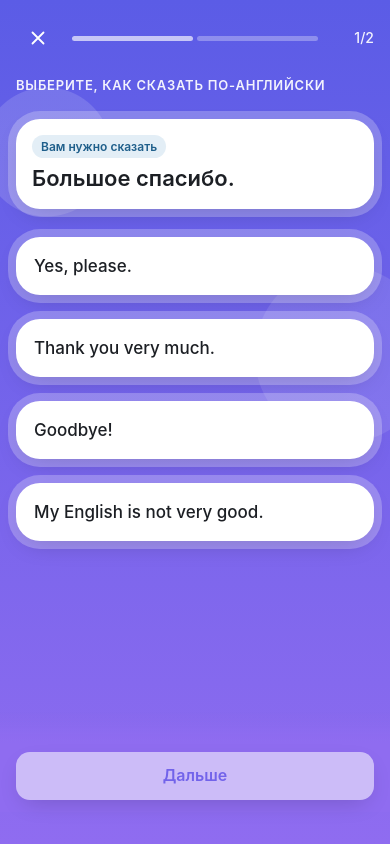
ExerciseRunner › выбор варианта: ошибка показывает правильный ответ, «Дальше» ведёт к следующему заданию, итог уходит в onFinish
The image size is (390, 844).
Later steps or results of the test are not shown.
Expected: the text "Большое спасибо." is shown, [32,165,235,191]
Click the button "Yes, please." at x=83, y=266, box [16,237,374,295]
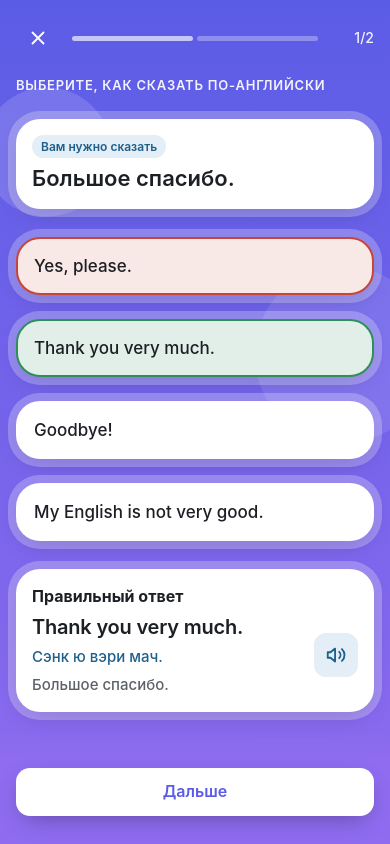
Now the text "Правильный ответ" is shown, box [32,586,183,606]
Click the button "Дальше" at x=195, y=792, box [16,768,374,816]
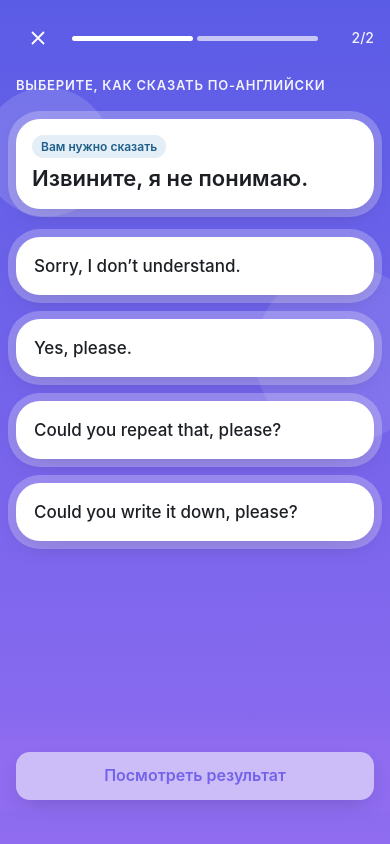
Now the text "Извините, я не понимаю." is shown, box [32,165,308,191]
Click the button "Sorry, I don’t understand." at x=195, y=266, box [16,237,374,295]
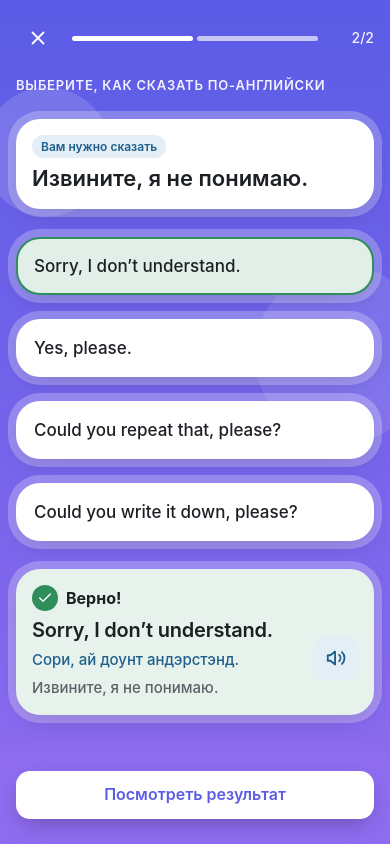
Now the text "Верно!" is shown, box [32,585,121,611]
